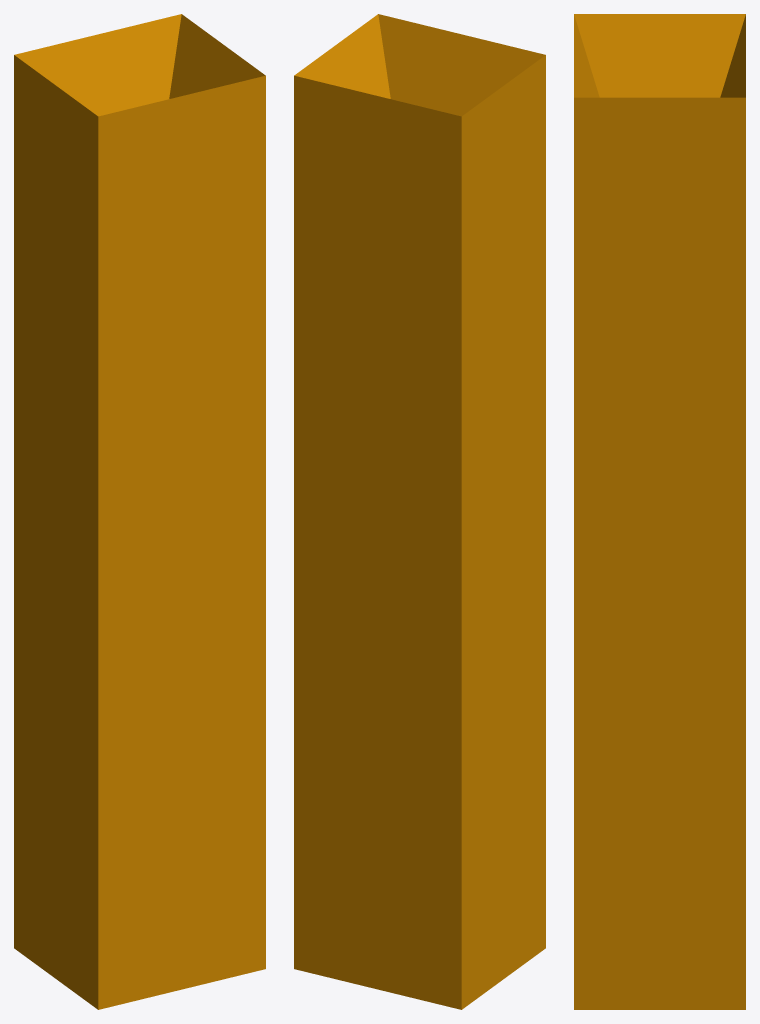
Rendered from minigun_shell.glb.
3 renders of one model, left to right at view 1: azimuth 30°, elevation 25°; view 2: azimuth 150°, elevation 25°; view 3: azimuth 270°, elevation 25°, orthographic. The views are drawn at different scales.
Visible parts, largest first — view 1: minigun shell; view 2: minigun shell; view 3: minigun shell.
Boxes of the visible parts, <box> form: minigun shell: <box>14,14,265,1009</box>; minigun shell: <box>294,14,545,1009</box>; minigun shell: <box>574,14,745,1009</box>.
Bounding box in the file's own units: 0.0229 × 0.1167 × 0.0199.
